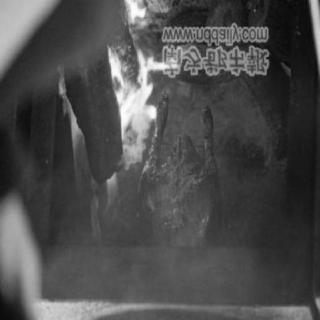Fire: (53, 3, 189, 255)
